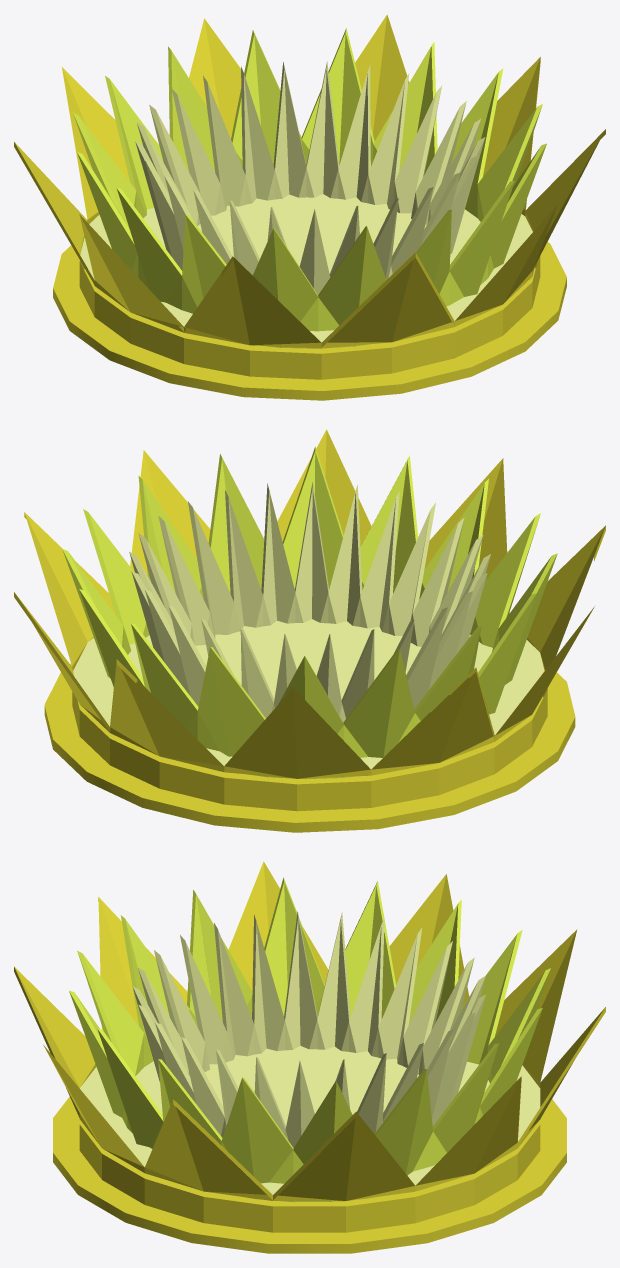
File: portal_abrir_000017.obj
The picture shows the model from 3 angles, top to bottom: view 1: azimuth 30°, elevation 25°; view 2: azimuth 150°, elevation 25°; view 3: azimuth 270°, elevation 25°; orthographic projection. The views are drawn at different scales.
Visible parts, largest first — view 1: pCylinder1, Cylinder, Cylinder.001; view 2: pCylinder1, Cylinder, Cylinder.001; view 3: pCylinder1, Cylinder, Cylinder.001.
Part boxes in pixels (<box>): pCylinder1: <box>14,14,605,400</box>; Cylinder: <box>73,28,546,348</box>; Cylinder.001: <box>135,61,485,294</box>; pCylinder1: <box>14,429,605,832</box>; Cylinder: <box>62,446,557,779</box>; Cylinder.001: <box>129,482,490,722</box>; pCylinder1: <box>14,861,605,1253</box>; Cylinder: <box>69,877,550,1202</box>; Cylinder.001: <box>132,911,486,1147</box>.
Size of the model in its own units: 3.29 by 1.02 by 3.28.
4 materials, 4 textured.
